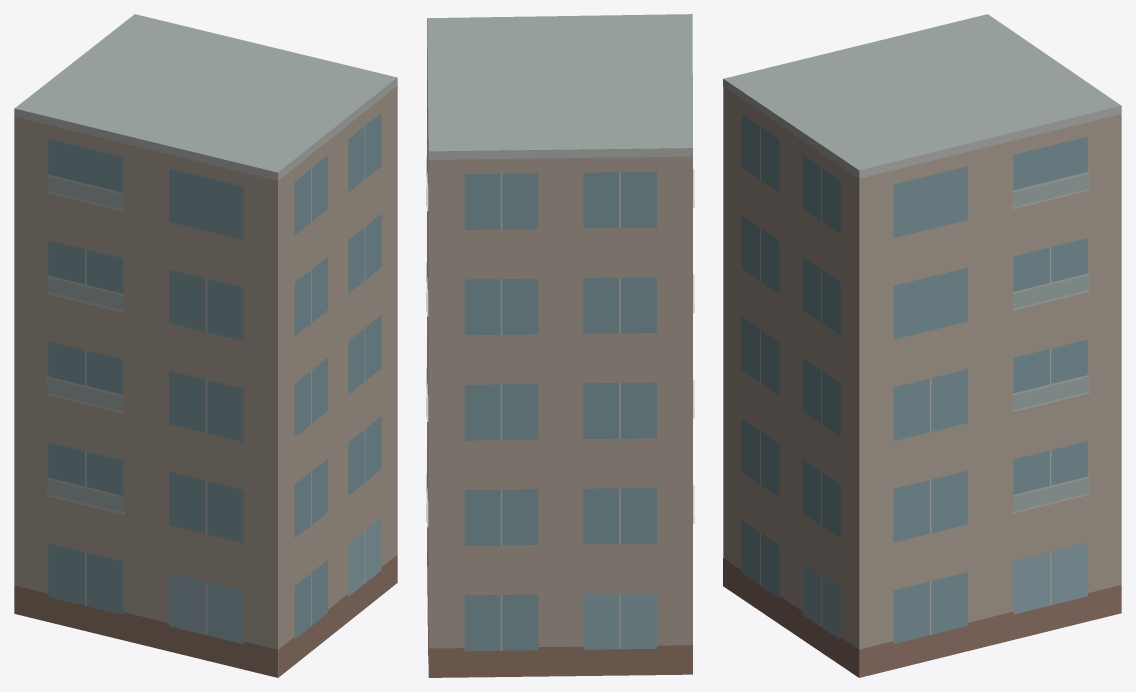
Rendered from survey-upis-32695336.glb.
The picture shows the model from 3 angles, left to right: view 1: azimuth 30°, elevation 25°; view 2: azimuth 150°, elevation 25°; view 3: azimuth 270°, elevation 25°; orthographic projection. The views are drawn at different scales.
Parts seen in each view (by area): view 1: survey-upis-32695336.tmp; view 2: survey-upis-32695336.tmp; view 3: survey-upis-32695336.tmp.
Boxes of the visible parts, bbox=[...] form: survey-upis-32695336.tmp: bbox=[14, 14, 397, 677]; survey-upis-32695336.tmp: bbox=[426, 14, 694, 677]; survey-upis-32695336.tmp: bbox=[723, 14, 1121, 677].
Size of the model in its own units: 9.96 by 15.05 by 10.72.
